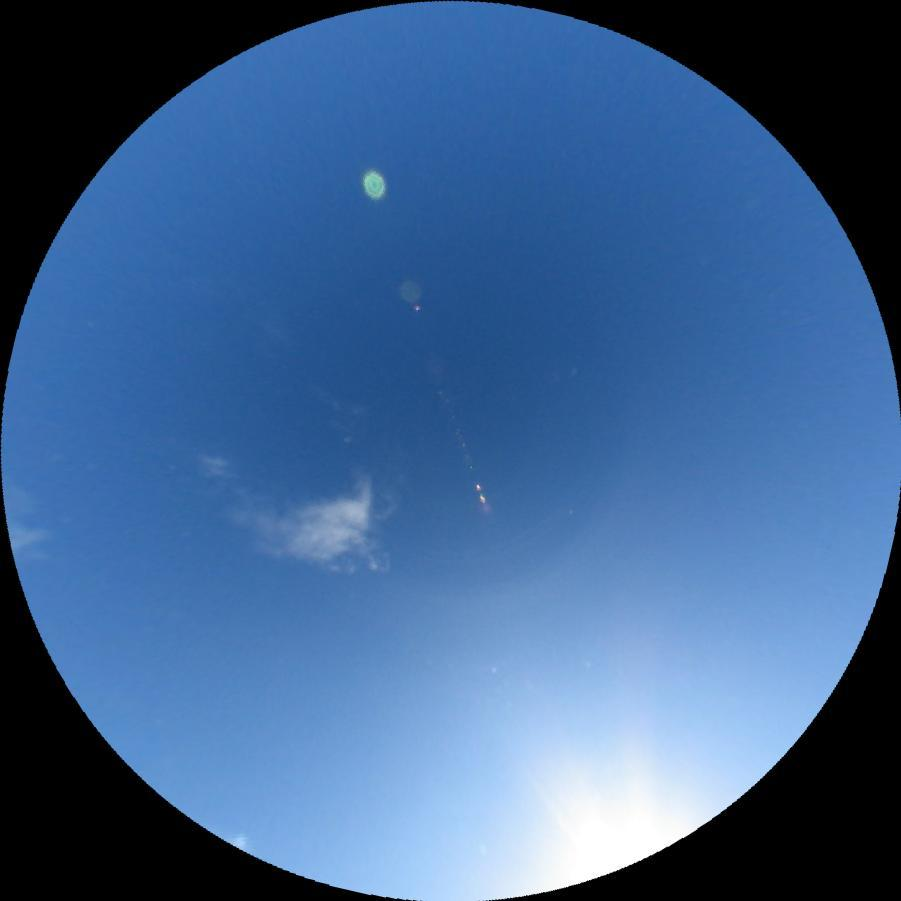sun: (526, 797, 689, 898)
